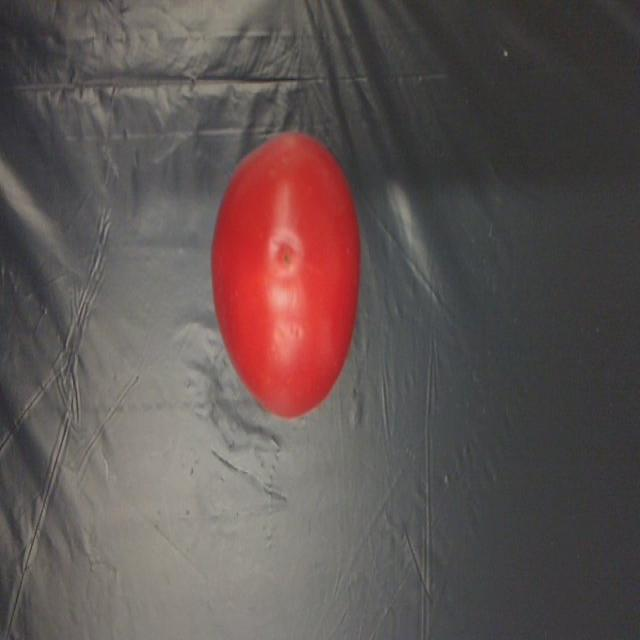kirmizi: (203, 107, 364, 438)
